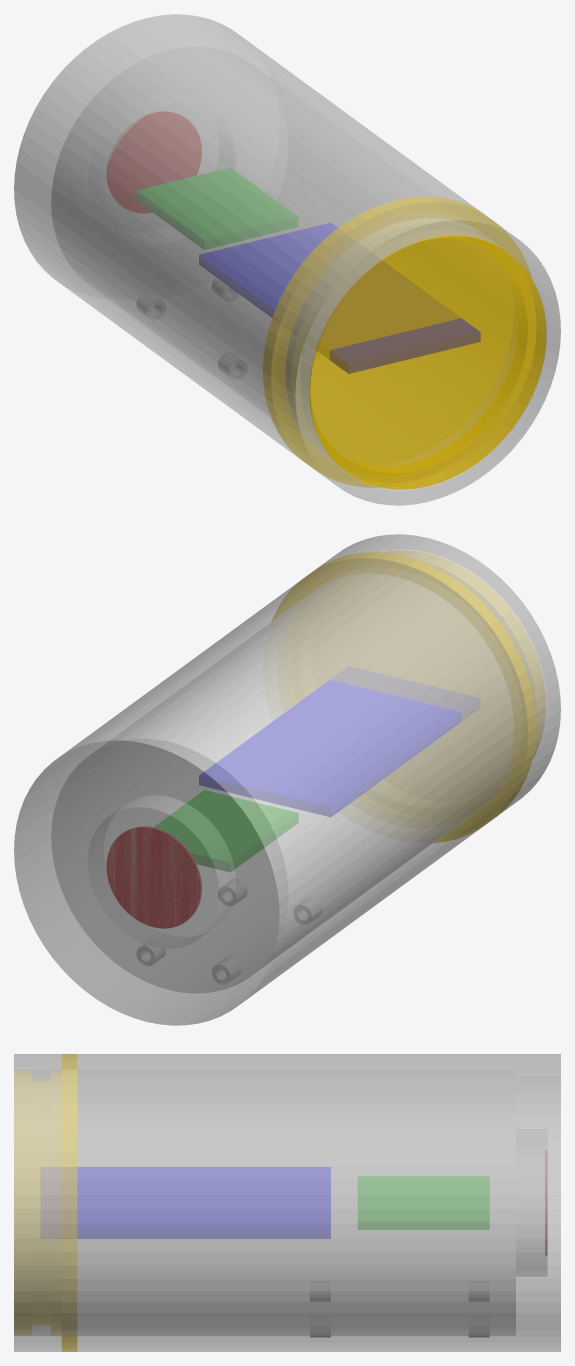
The model's file is hydrophone.glb.
The picture shows the model from 3 angles, top to bottom: view 1: azimuth 30°, elevation 25°; view 2: azimuth 150°, elevation 25°; view 3: azimuth 270°, elevation 25°; orthographic projection. The views are drawn at different scales.
Parts seen in each view (by area): view 1: tube_body, end_cap, esp32_board, preamp_board, piezo_disc; view 2: tube_body, end_cap, esp32_board, piezo_disc, preamp_board; view 3: tube_body, esp32_board, end_cap, preamp_board, standoff_1, standoff_0, standoff_2, standoff_3.
Part boxes in pixels (<box>): tube_body: <box>14,14,560,505</box>; end_cap: <box>263,197,546,489</box>; esp32_board: <box>199,223,480,373</box>; preamp_board: <box>136,168,298,249</box>; piezo_disc: <box>107,111,201,213</box>; tube_body: <box>14,534,560,1025</box>; end_cap: <box>272,551,545,842</box>; esp32_board: <box>199,680,461,816</box>; piezo_disc: <box>106,826,201,928</box>; preamp_board: <box>154,790,298,871</box>; tube_body: <box>14,1054,560,1351</box>; esp32_board: <box>77,1167,330,1238</box>; end_cap: <box>14,1054,76,1351</box>; preamp_board: <box>358,1176,489,1229</box>; standoff_1: <box>468,1317,489,1337</box>; standoff_0: <box>469,1281,489,1301</box>; standoff_2: <box>310,1281,330,1301</box>; standoff_3: <box>310,1317,330,1337</box>.
Bounding box in the file's own units: 0.0564 × 0.0564 × 0.1035.
